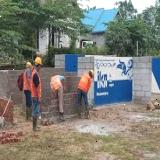Helmet: (35, 56, 42, 66), (89, 68, 95, 79)
Vest: (31, 70, 42, 99), (78, 73, 92, 94), (51, 76, 62, 92), (24, 70, 32, 90)
